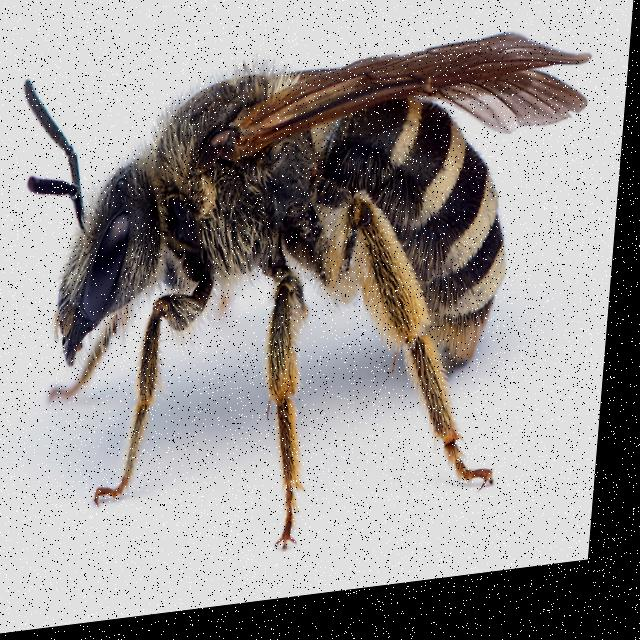Lasioglossum: (0, 0, 586, 599)
